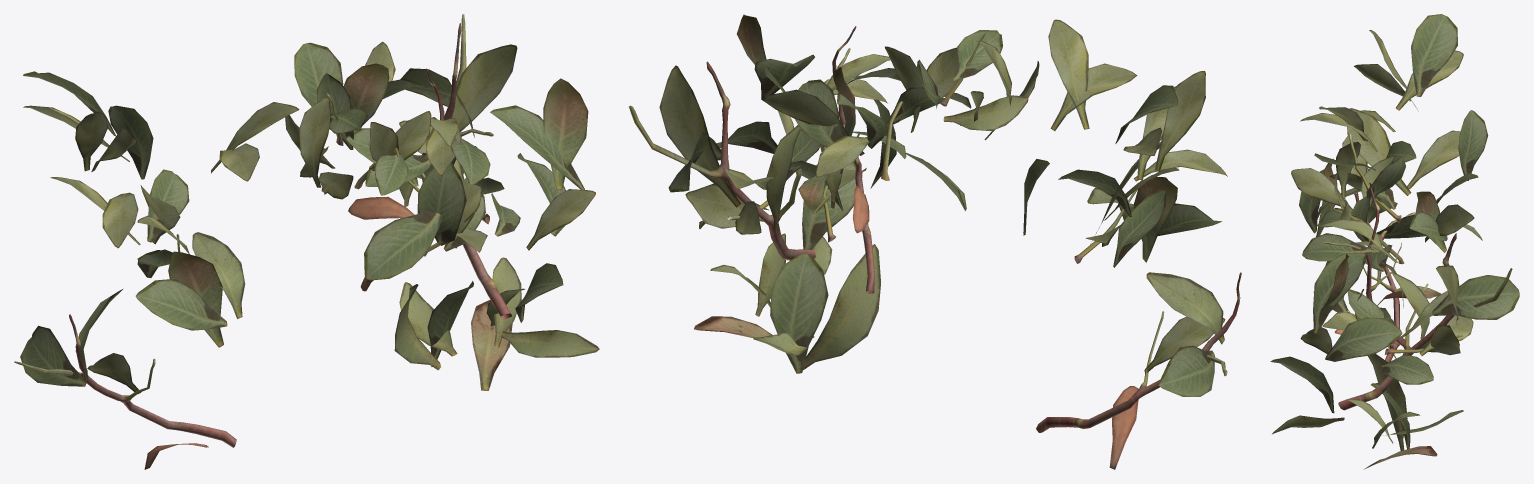
3 views of the same model, side by side, from view 1: azimuth 30°, elevation 25°; view 2: azimuth 150°, elevation 25°; view 3: azimuth 270°, elevation 25° (orthographic). The views are drawn at different scales.
Parts seen in each view (by area): view 1: shrub_04; view 2: shrub_04; view 3: shrub_04.
Boxes of the visible parts, <box> form: shrub_04: <box>14,14,599,469</box>; shrub_04: <box>628,14,1241,469</box>; shrub_04: <box>1270,14,1519,469</box>.
Bounding box in the file's own units: 0.2777 × 0.204 × 0.1466.
1 material, 1 textured.
